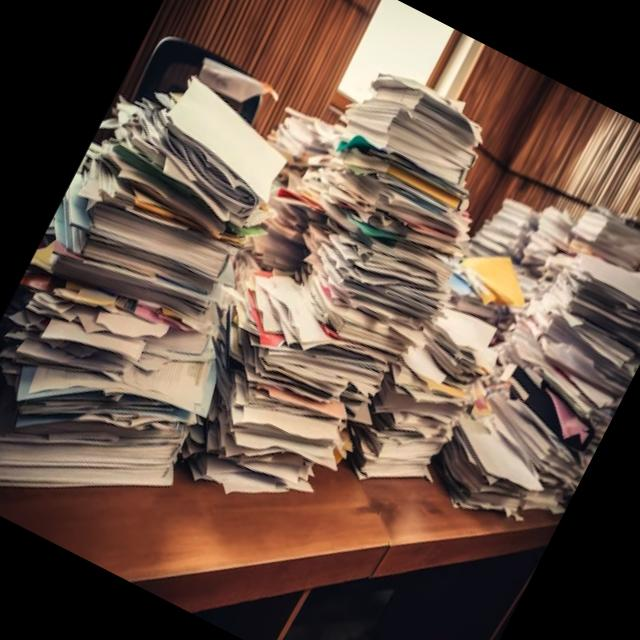KertasBekas: (0, 0, 640, 640), (125, 36, 532, 547), (0, 45, 344, 564)
